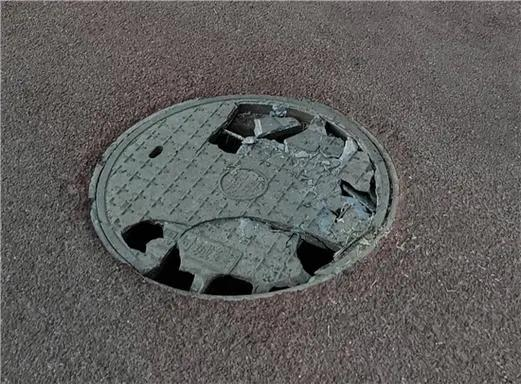wellcover: (74, 80, 414, 304)
